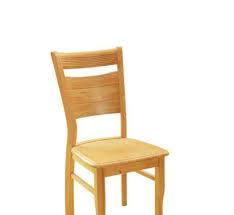chair: (44, 37, 185, 207)
